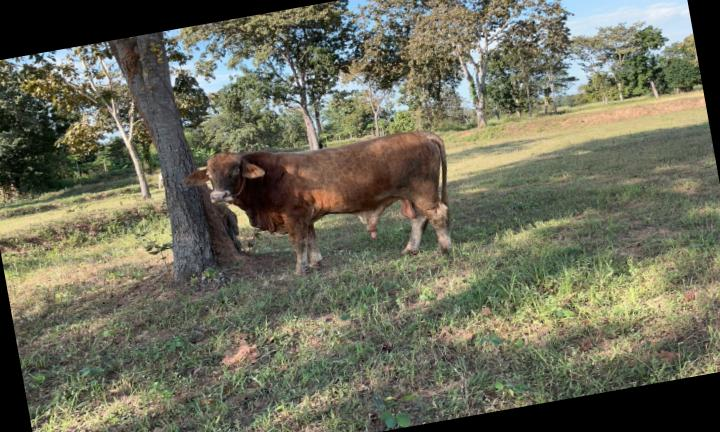Charolais: (184, 131, 451, 273)
